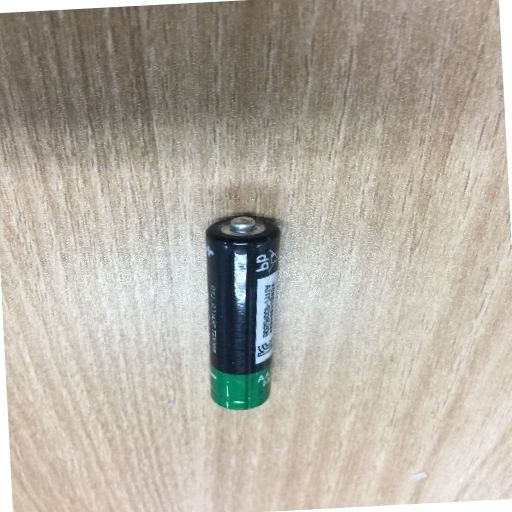Battery_0: (194, 196, 298, 424)
